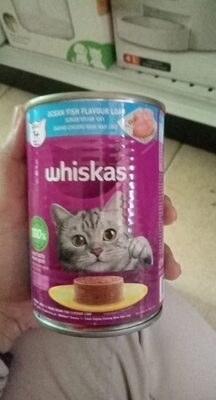Whiskas ocean fish flavour 400 gr: (11, 20, 205, 380)
